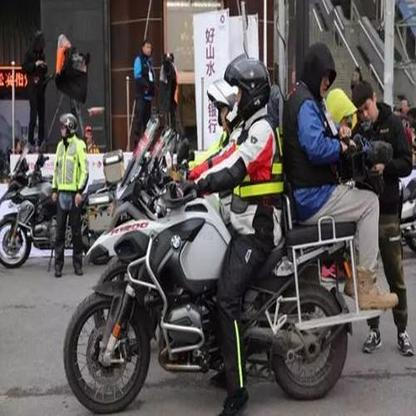target: (61, 54, 361, 411)
